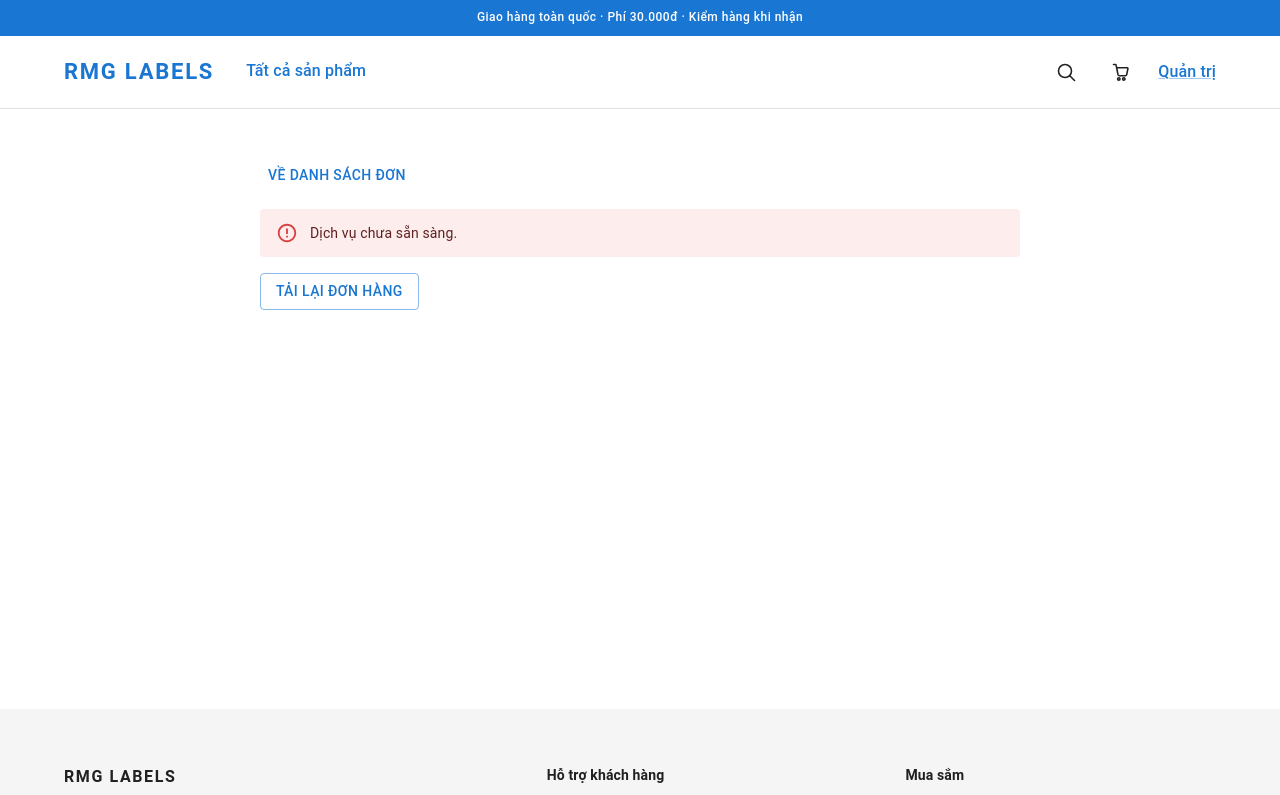
Test: admin order detail › explains a failed load and retries on request
Check: the message reads "Dịch vụ chưa sẵn sàng.", box 310,225 -> 457,241
Click the button "Tải lại đơn hàng".
click(339, 292)  # box 260,273 -> 419,310
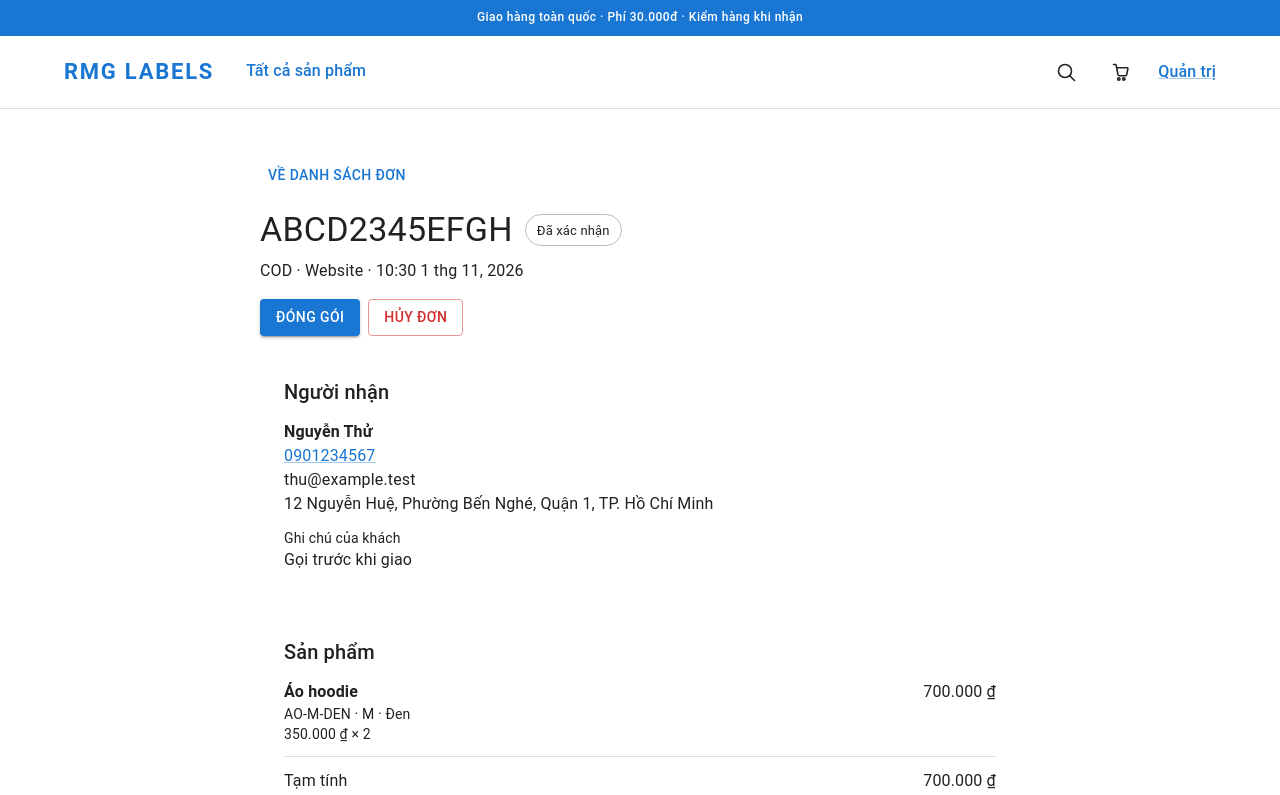
Check: the heading "ABCD2345EFGH" is shown, box 260,209 -> 513,251
